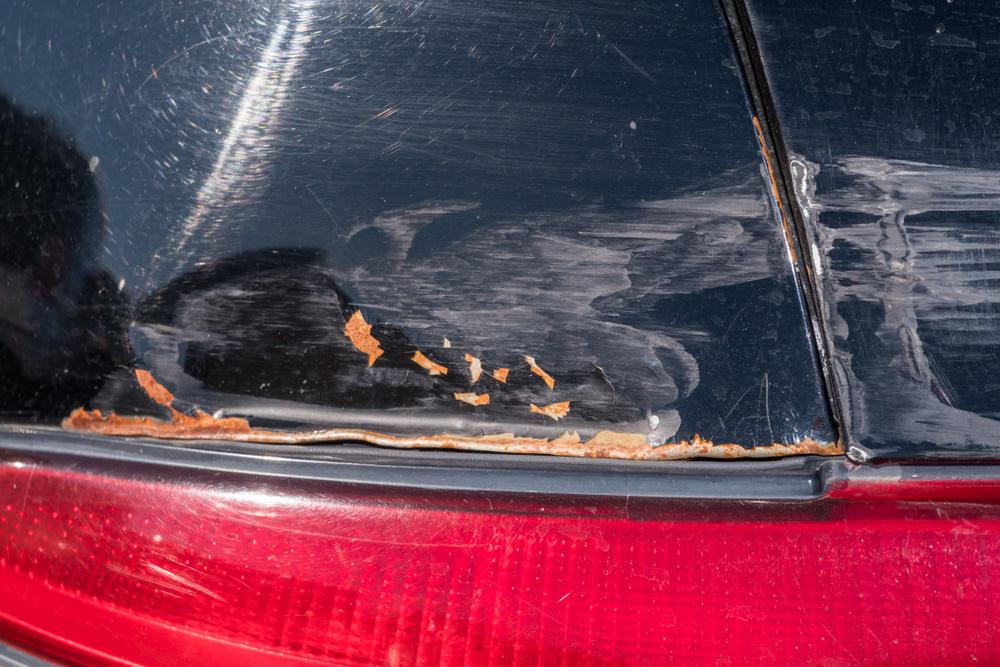scratch: (95, 163, 793, 452), (786, 149, 1000, 466)
